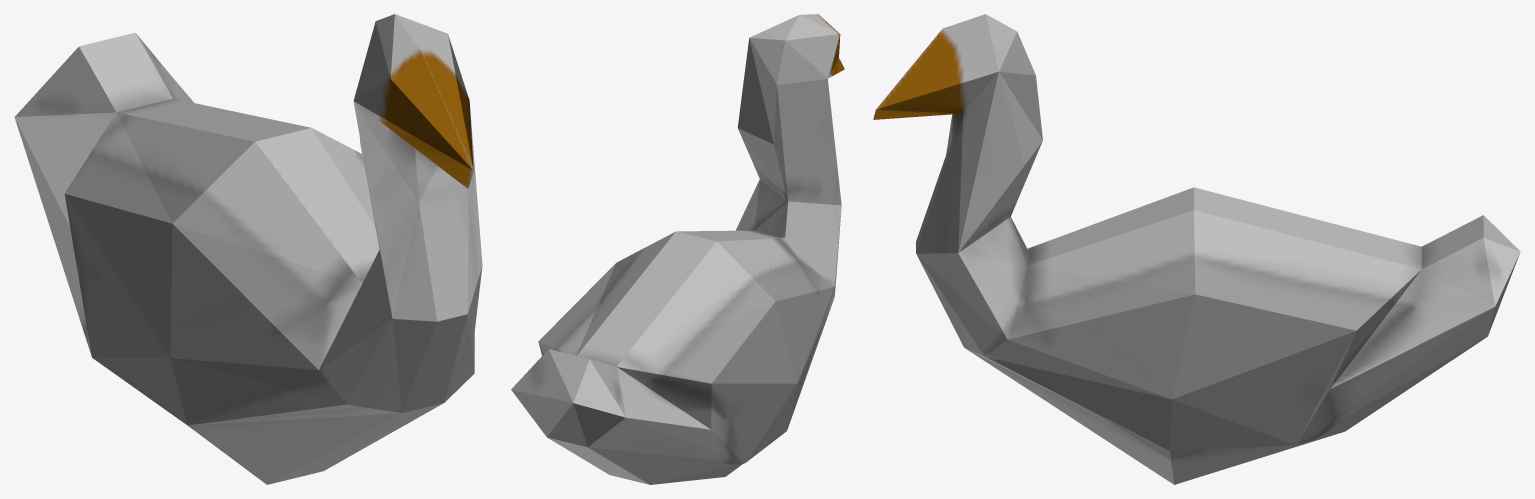
Rendered from duck.fbx.
The picture shows the model from 3 angles, left to right: view 1: azimuth 30°, elevation 25°; view 2: azimuth 150°, elevation 25°; view 3: azimuth 270°, elevation 25°; orthographic projection. The views are drawn at different scales.
Visible parts, largest first — view 1: pCube53; view 2: pCube53; view 3: pCube53.
Part boxes in pixels (bbox=[...]): pCube53: bbox=[14, 14, 482, 484]; pCube53: bbox=[511, 14, 844, 484]; pCube53: bbox=[873, 14, 1520, 484].
Size of the model in its own units: 0.1093 by 0.2229 by 0.2884.
